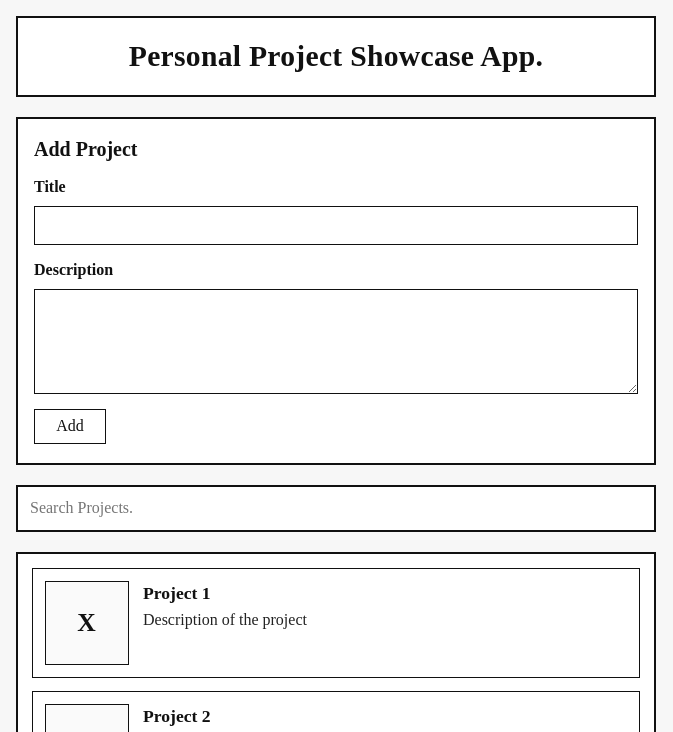
App › adds a new project from the form
This screenshot has width=673, height=732.
Type "Portfolio Site" into the field labelled "Title" at (336, 225), box [34,206,638,245]
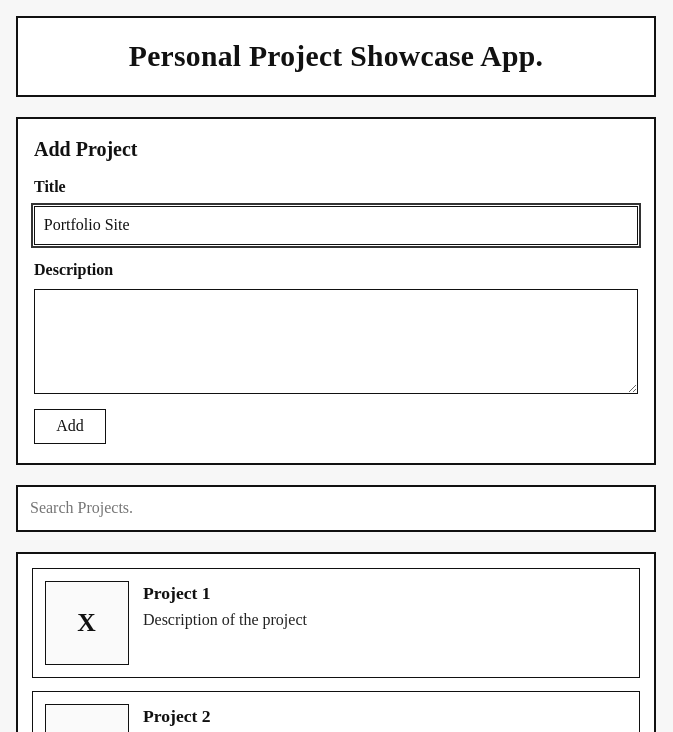
Type "A responsive React portfolio" into the text box labelled "Description" at (336, 341), box [34,288,638,394]
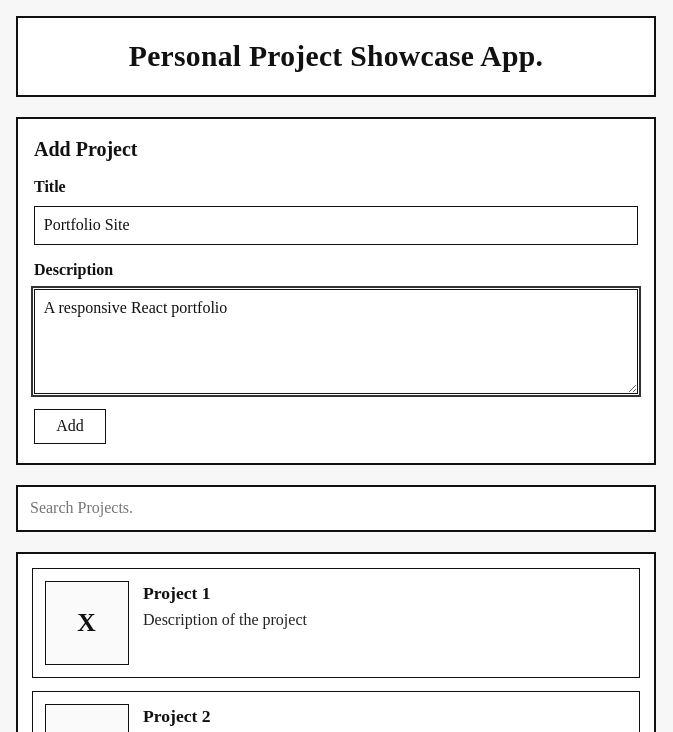
Click the button "Add" at (70, 427), box [34,409,106,444]
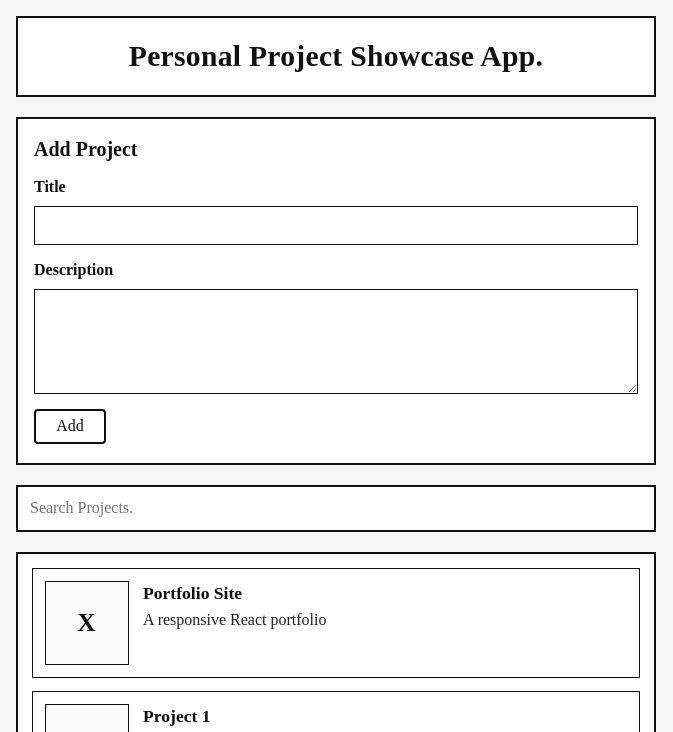
Check: the heading "Portfolio Site" is shown, box [143,582,242,602]
Check: the text "A responsive React portfolio" is shown, box [143,611,326,628]
